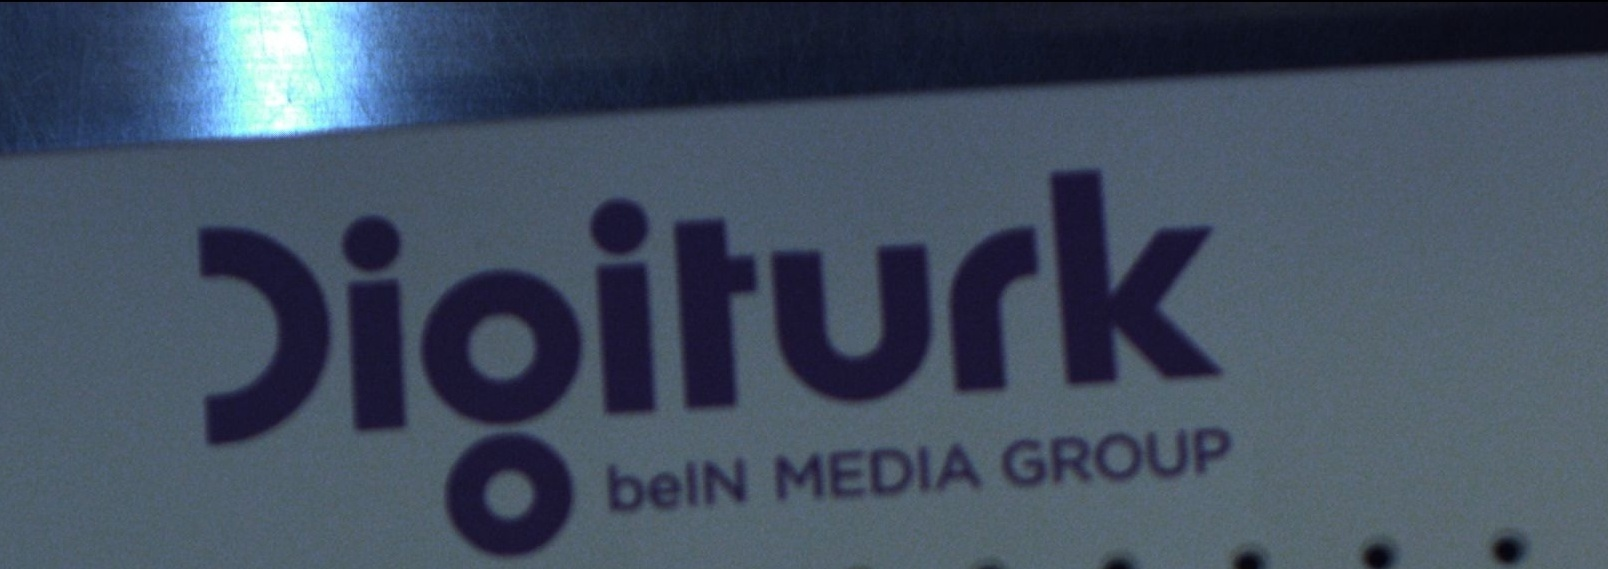BW_H168ADigiturk: (167, 153, 1303, 559)
